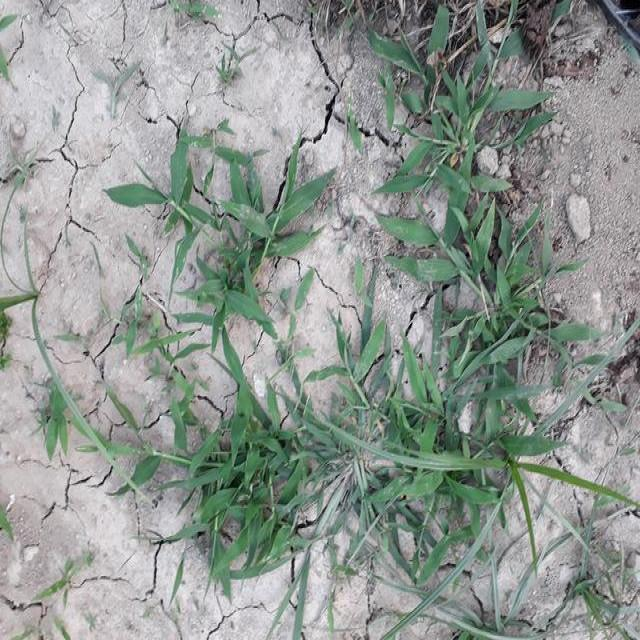weed: (366, 9, 565, 557), (102, 127, 332, 346), (175, 386, 347, 576)
